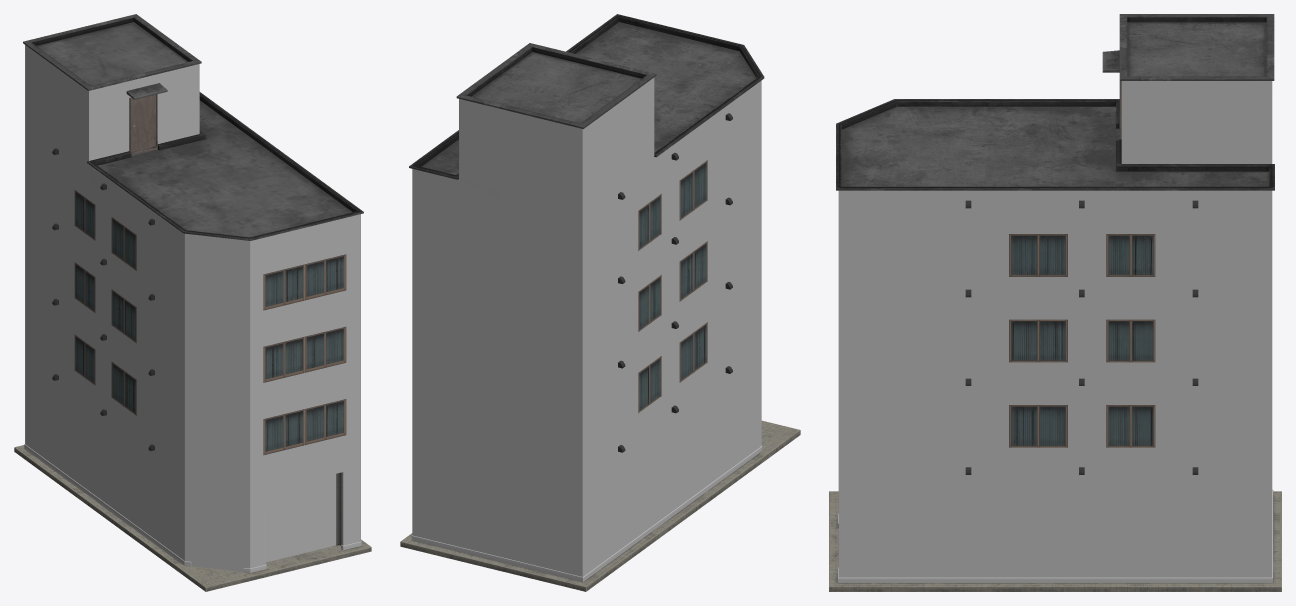
File: BldJ_low.fbx
3 renders of one model, left to right at view 1: azimuth 30°, elevation 25°; view 2: azimuth 150°, elevation 25°; view 3: azimuth 270°, elevation 25°, orthographic. The views are drawn at different scales.
Visible parts, largest first — view 1: BldJ_low; view 2: BldJ_low; view 3: BldJ_low.
Boxes of the visible parts, bbox=[...] form: BldJ_low: bbox=[14, 14, 371, 591]; BldJ_low: bbox=[400, 14, 800, 591]; BldJ_low: bbox=[829, 14, 1281, 591].
Size of the model in its own units: 600 by 1420 by 1200.
